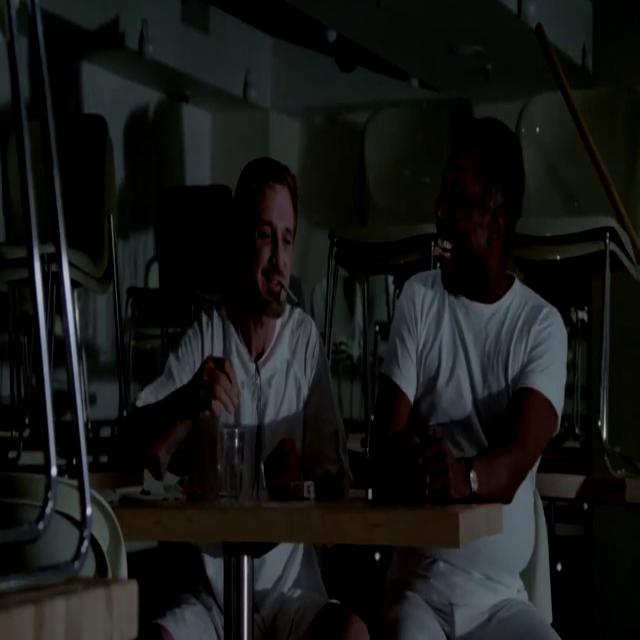Smooking: (281, 277, 304, 314)
